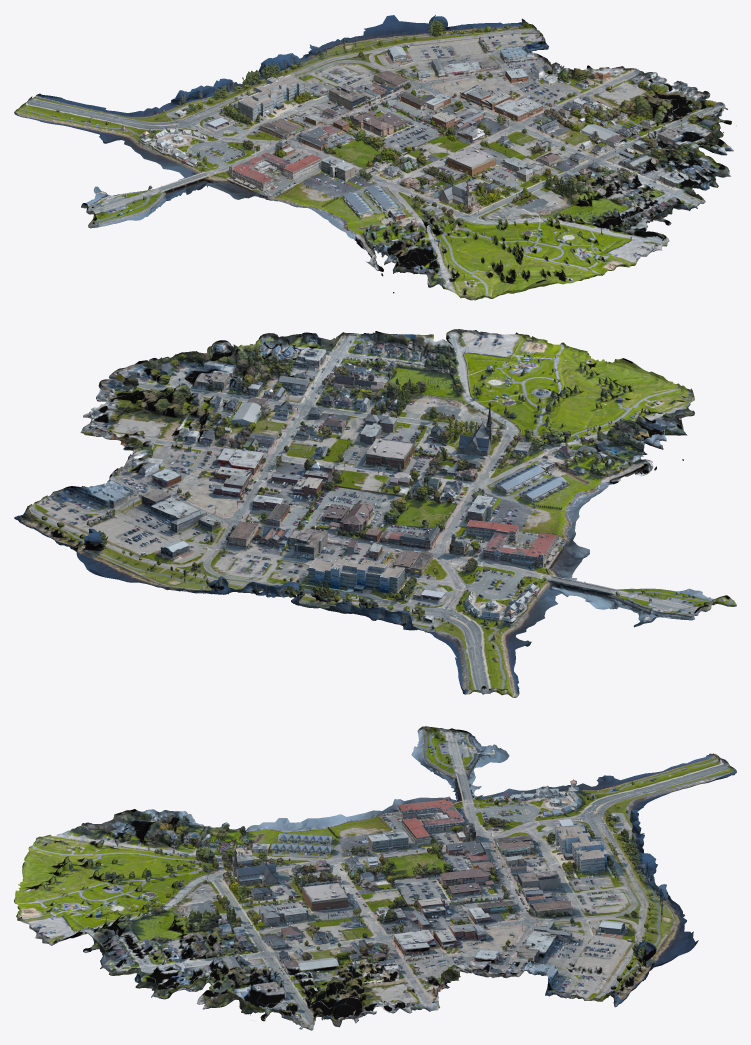
The model's file is canadian_downtown.glb.
The picture shows the model from 3 angles, top to bottom: view 1: azimuth 30°, elevation 25°; view 2: azimuth 150°, elevation 25°; view 3: azimuth 270°, elevation 25°; orthographic projection. The views are drawn at different scales.
Parts seen in each view (by area): view 1: beta; view 2: beta; view 3: beta.
Boxes of the visible parts, <box> form: beta: <box>14,15,733,300</box>; beta: <box>14,329,736,697</box>; beta: <box>14,726,736,1030</box>.
Size of the model in its own units: 307 by 25.7 by 294.
1 material, 1 textured.
